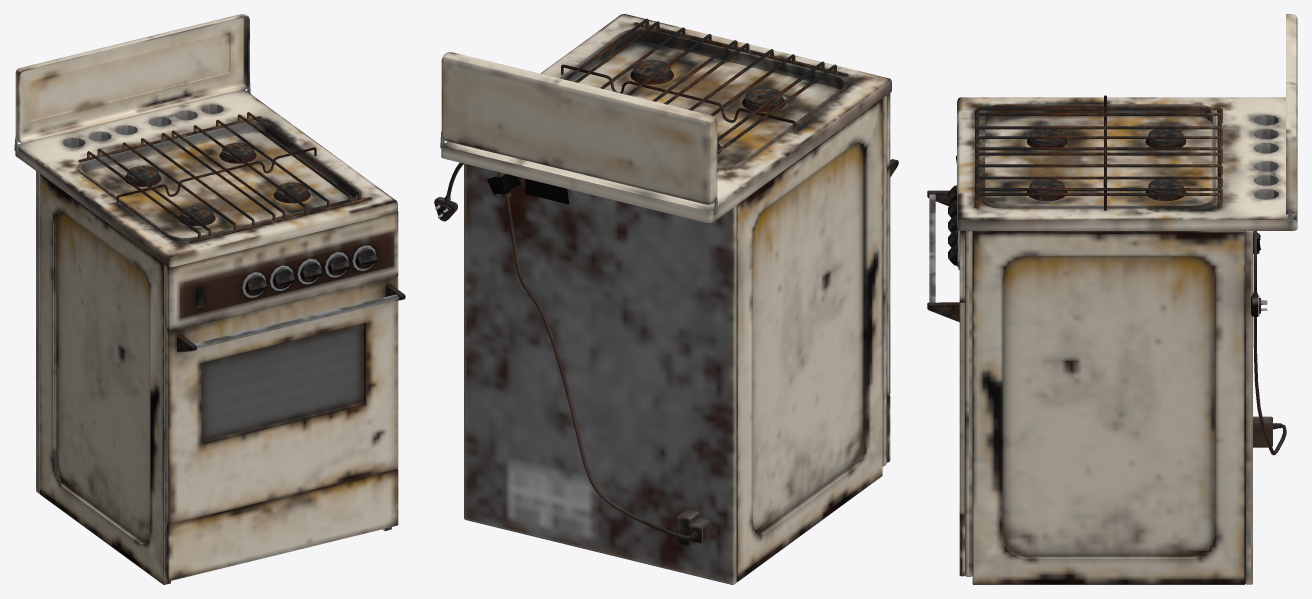
File: old-russian-gasstove-gameready-lowpoly-a-0c96e2.glb
The picture shows the model from 3 angles, left to right: view 1: azimuth 30°, elevation 25°; view 2: azimuth 150°, elevation 25°; view 3: azimuth 270°, elevation 25°; orthographic projection. The views are drawn at different scales.
Visible parts, largest first — view 1: PropMesh; view 2: PropMesh; view 3: PropMesh.
Boxes of the visible parts, x1,y1,x2,y2 form: PropMesh: (14,14,405,584); PropMesh: (434,14,898,584); PropMesh: (927,14,1297,584).
Size of the model in its own units: 0.7987 by 1.23 by 0.9174.
Materials: 1 (1 with a texture image).
